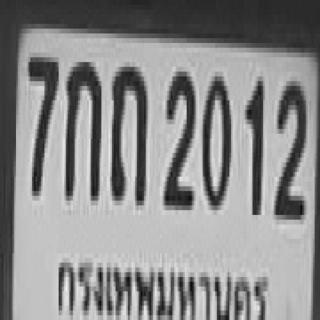A01: (64, 57, 100, 196)
A22: (110, 62, 146, 200)
N00: (201, 72, 229, 205)
N01: (244, 74, 261, 208)
N02: (272, 76, 304, 215), (162, 67, 194, 205)
N07: (27, 53, 57, 191)
